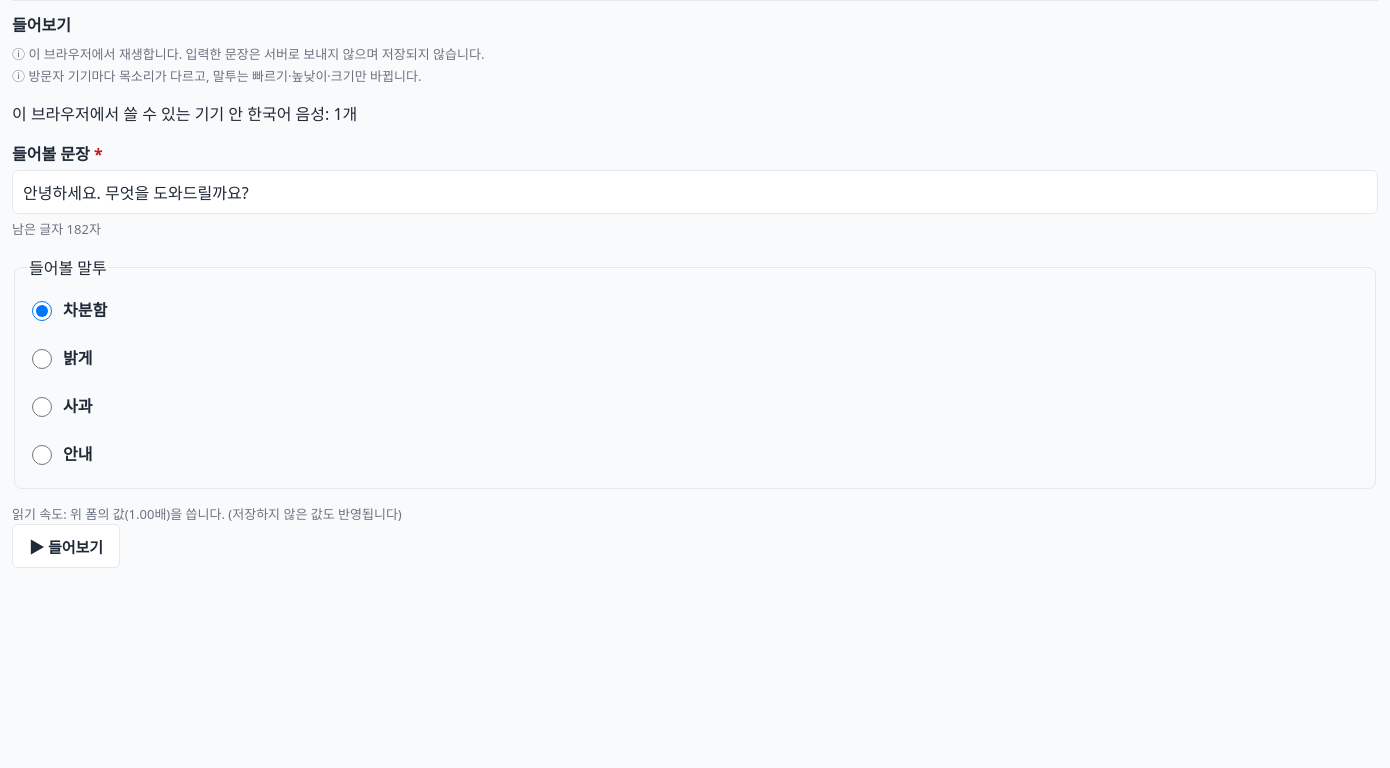
Test: 재생 › 재생 오류는 인라인으로 1회 안내하고 자동 재시도하지 않는다
Click the button "▶ 들어보기" at {"x": 66, "y": 546}, box [12,524,120,568]
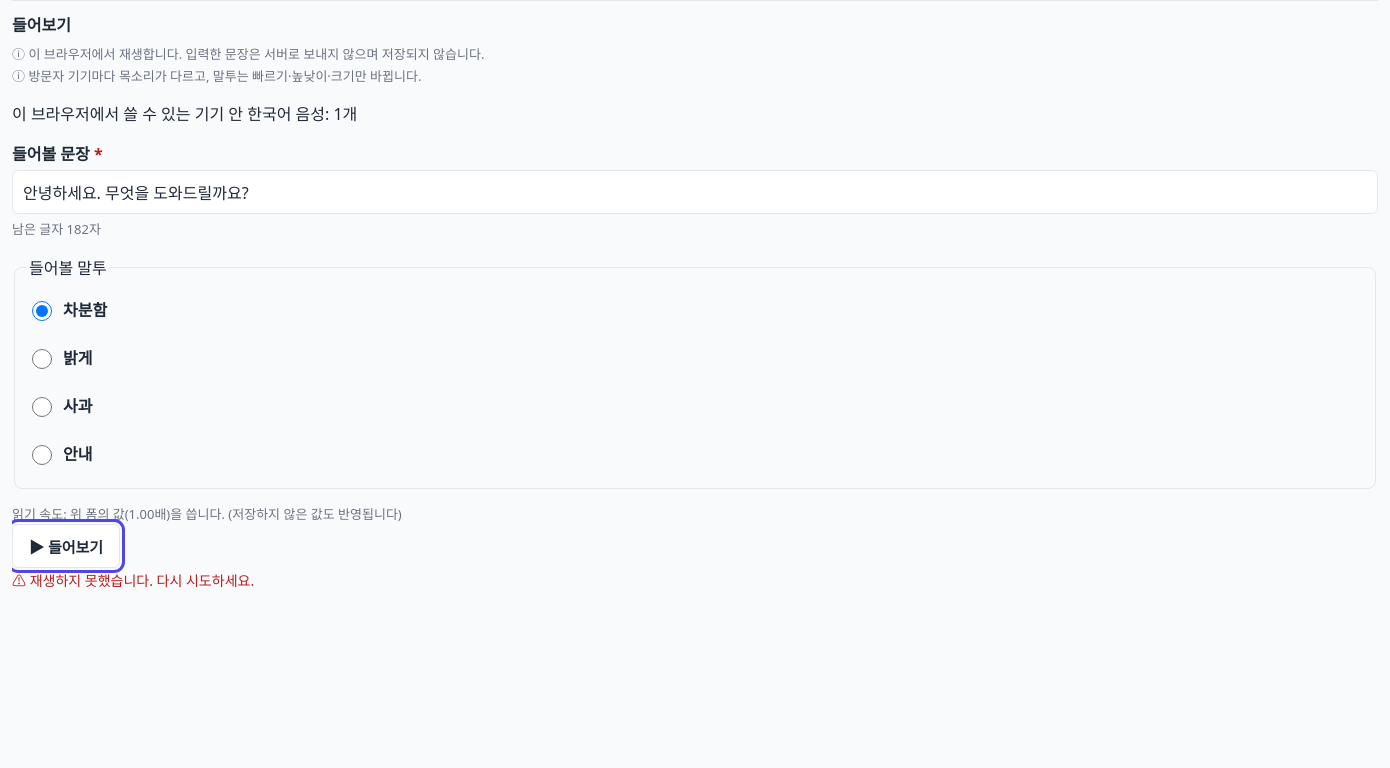
Result: the message shows "재생하지 못했습니다. 다시 시도하세요." at [30,571,254,590]
